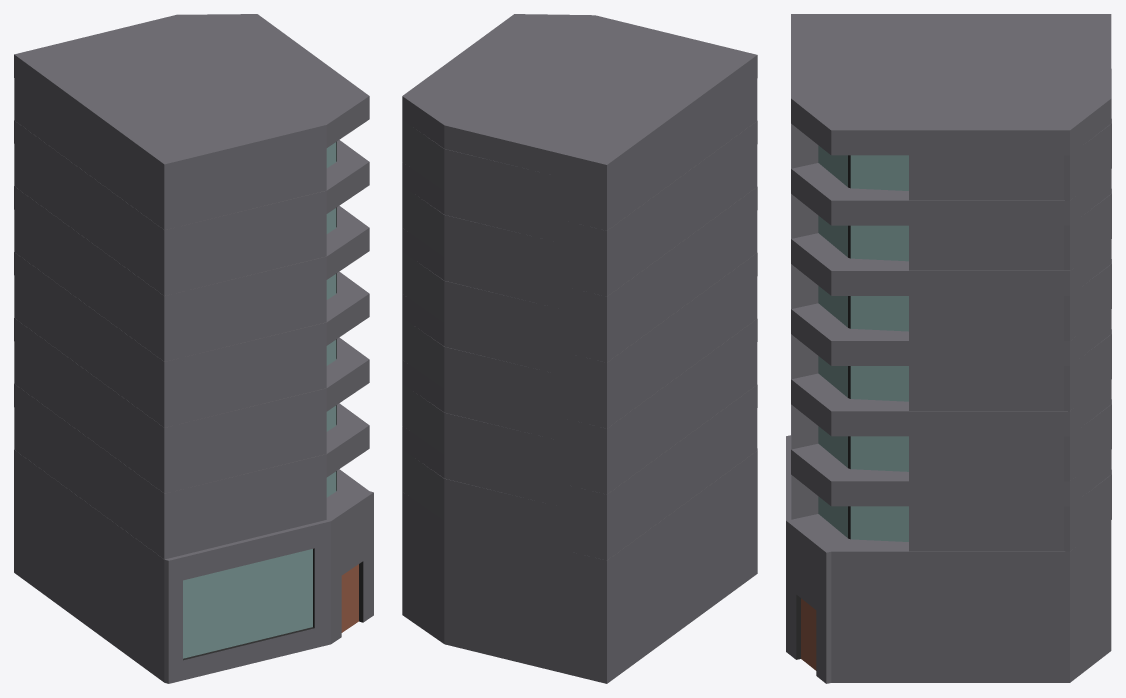
File: Skyscraper2.fbx
3 views of the same model, side by side, from view 1: azimuth 30°, elevation 25°; view 2: azimuth 150°, elevation 25°; view 3: azimuth 270°, elevation 25° (orthographic). The views are drawn at different scales.
Visible parts, largest first — view 1: Cube; view 2: Cube; view 3: Cube.
Boxes of the visible parts, x1=… form: Cube: x1=14, y1=14, x2=373, y2=683; Cube: x1=402, y1=14, x2=757, y2=683; Cube: x1=786, y1=14, x2=1111, y2=683.
Size of the model in its own units: 10975 by 24055 by 12854.
